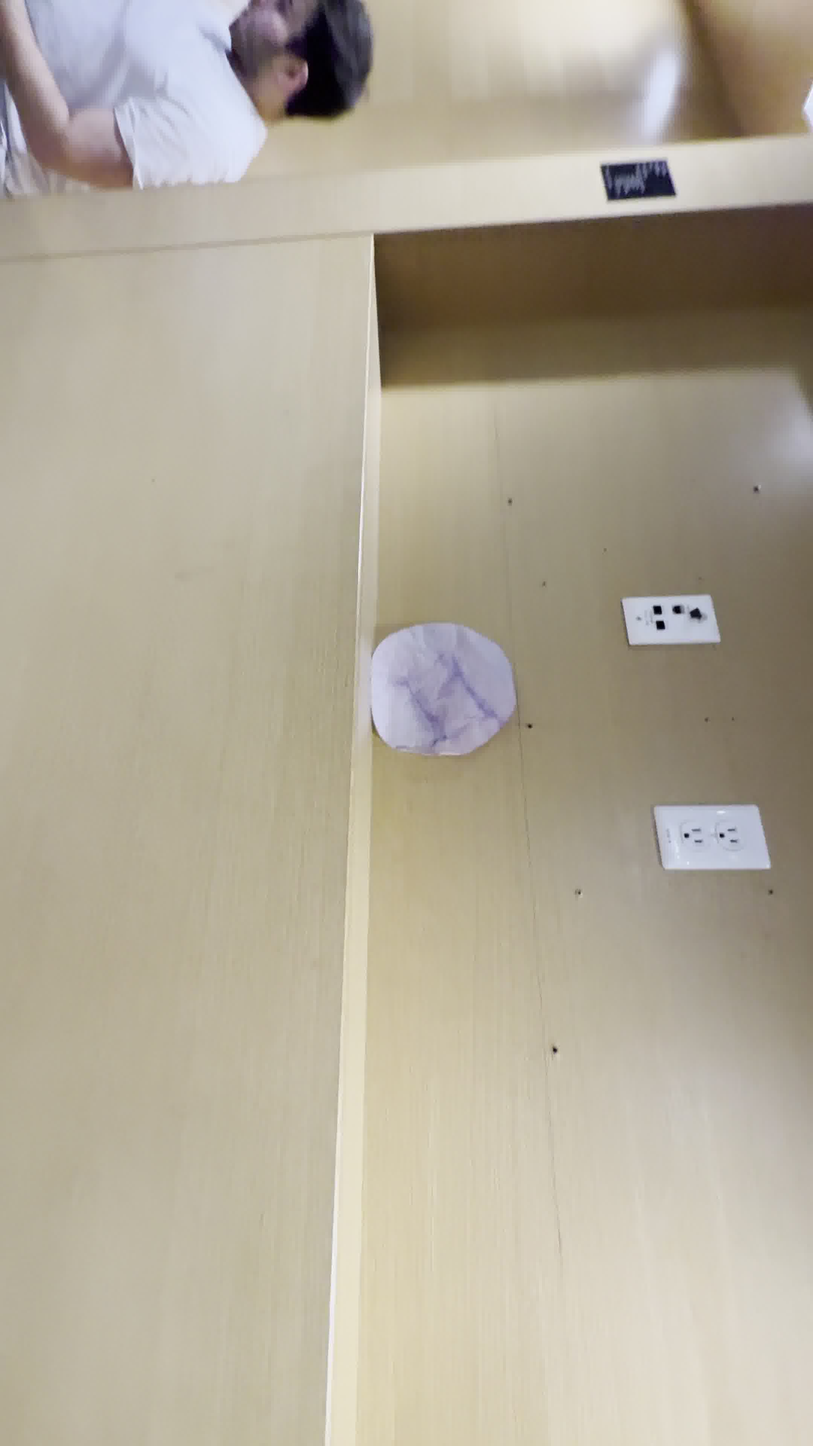Target: (371, 621, 516, 761)
